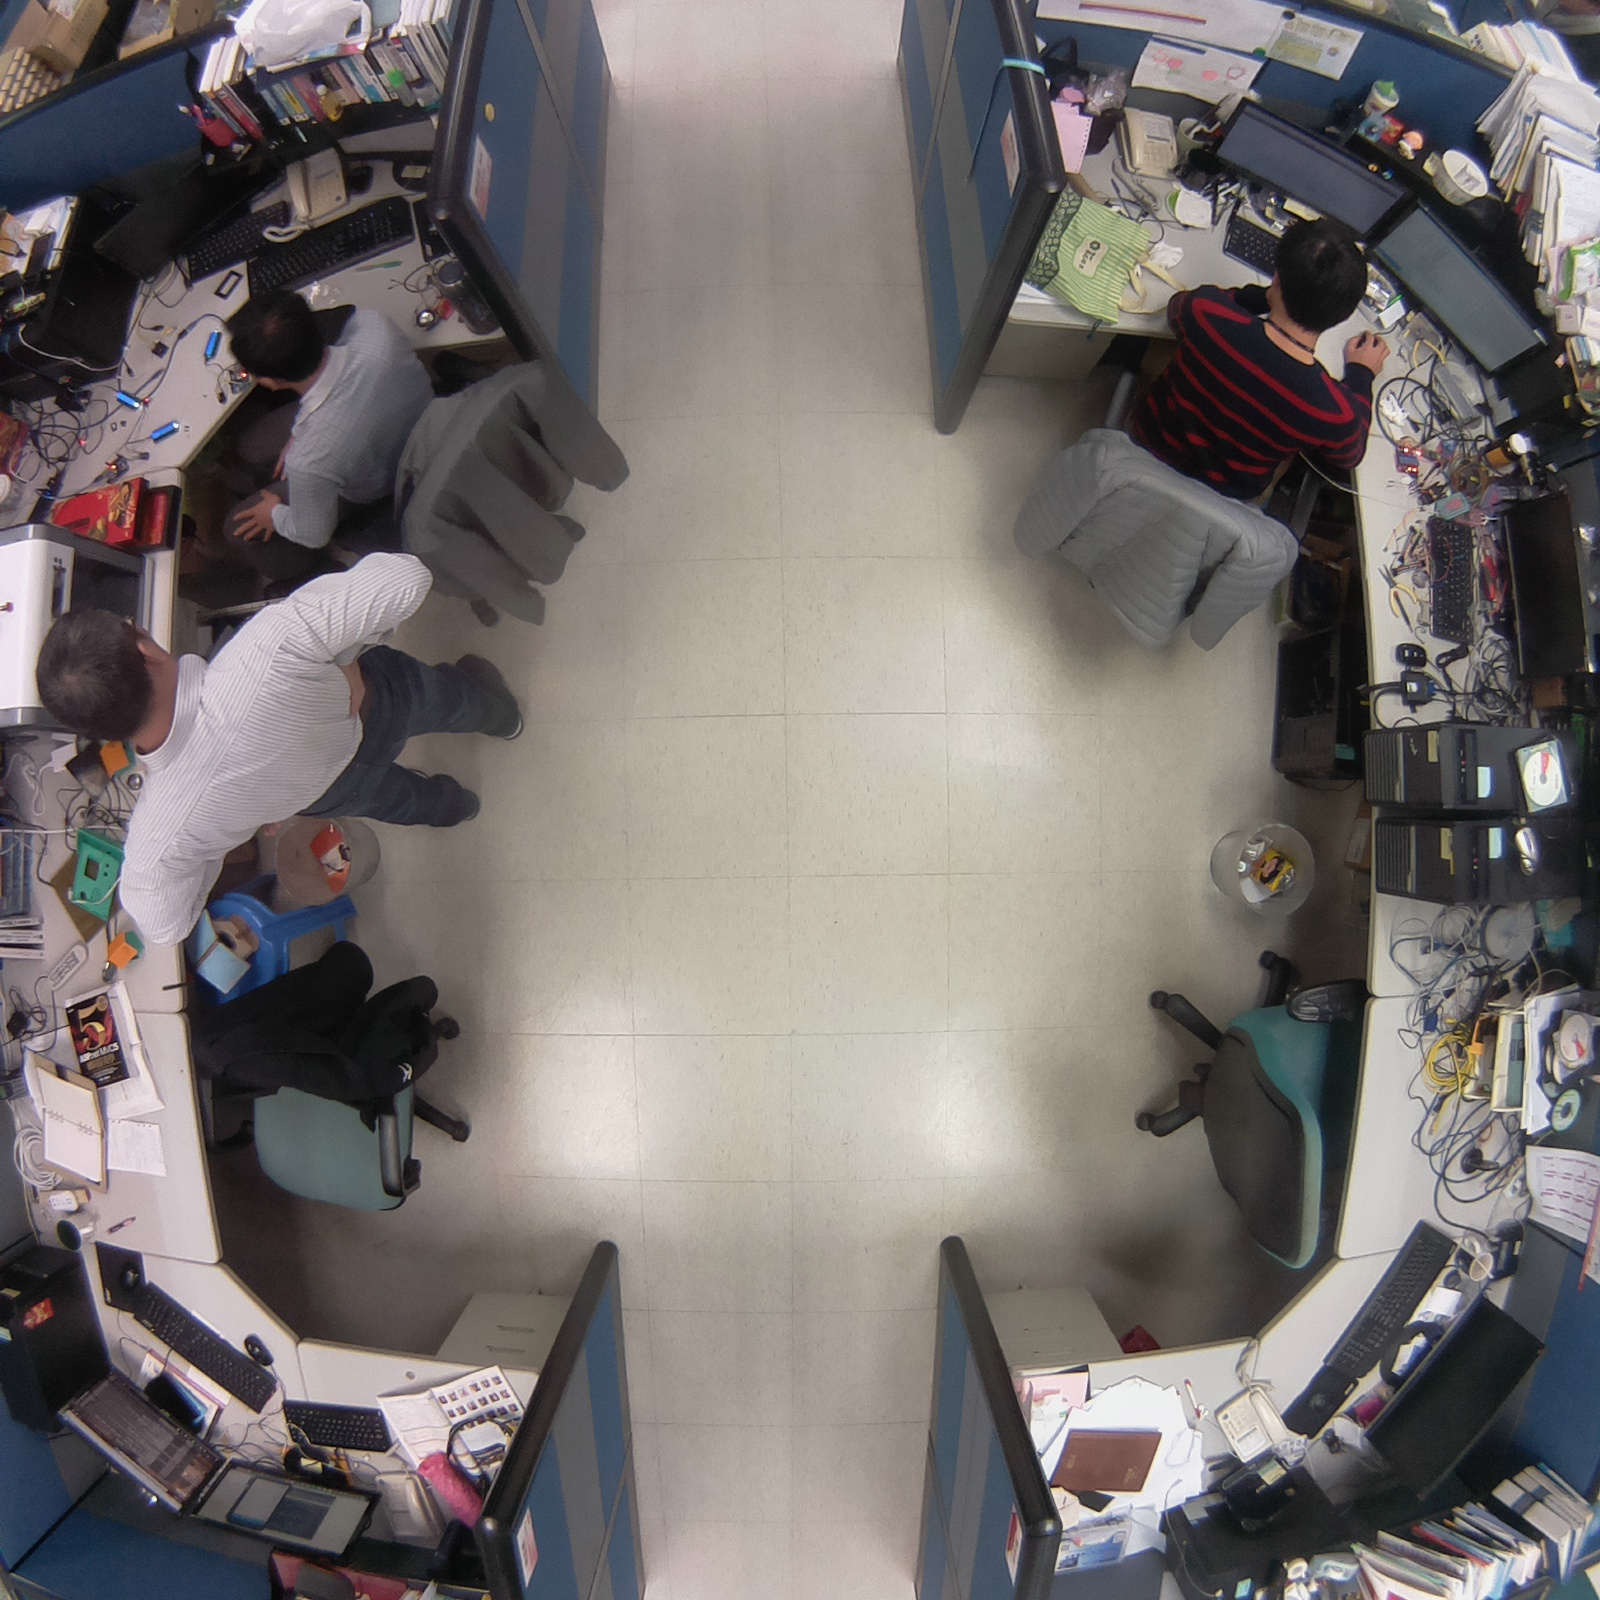chair: (1129, 919, 1386, 1286), (191, 929, 494, 1240)
head: (29, 602, 178, 748), (1259, 210, 1374, 338), (215, 287, 334, 400)
sitting: (988, 212, 1390, 688), (208, 286, 650, 647)
standing: (22, 566, 524, 894)
